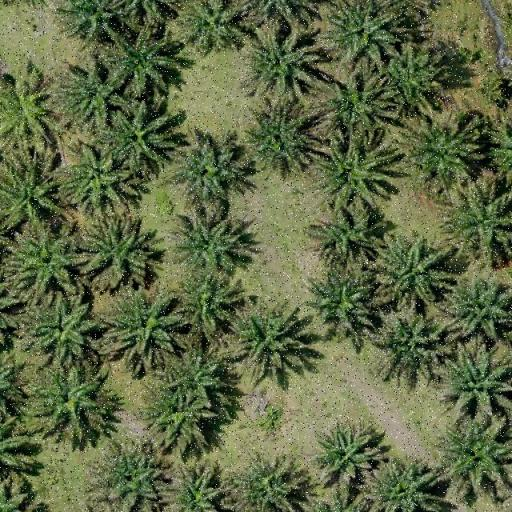Ganoderma: (0, 85, 48, 133)
